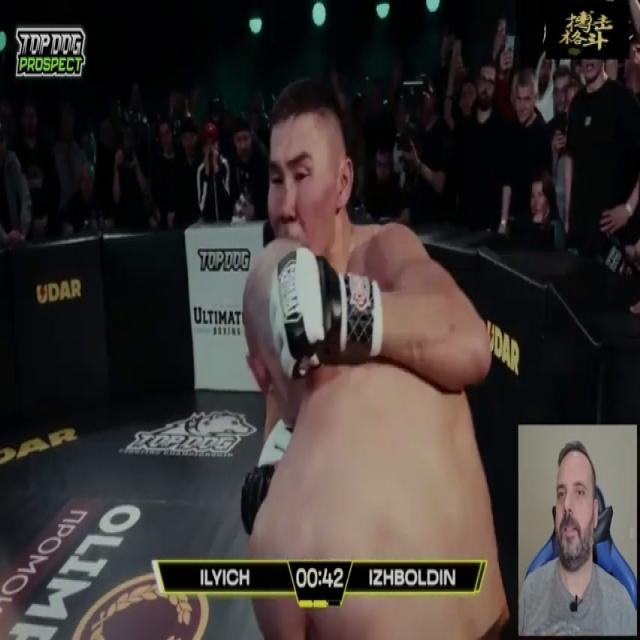fight: (186, 54, 518, 638)
